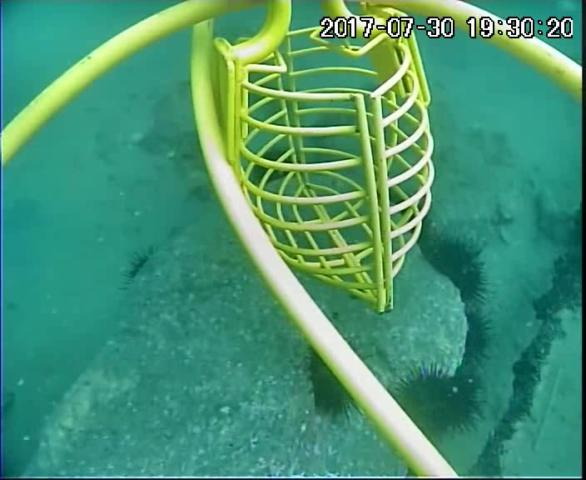echinus: (386, 362, 487, 440), (303, 340, 369, 426), (422, 230, 486, 302), (456, 308, 498, 366)
